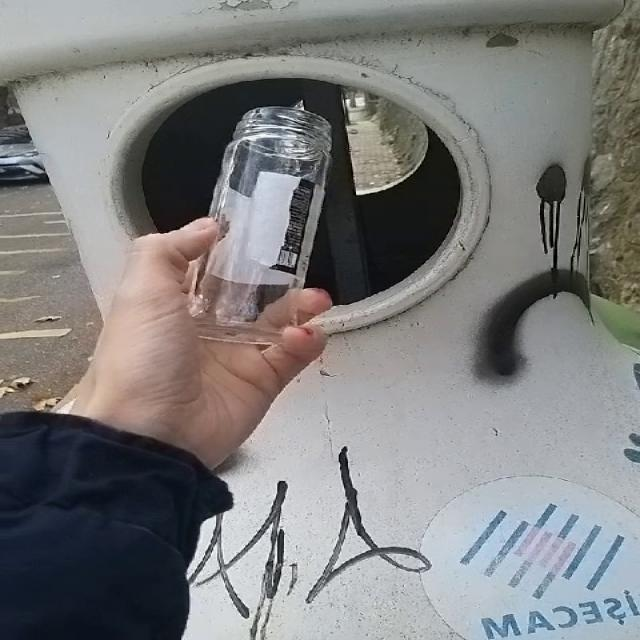Glass: (189, 107, 331, 344)
